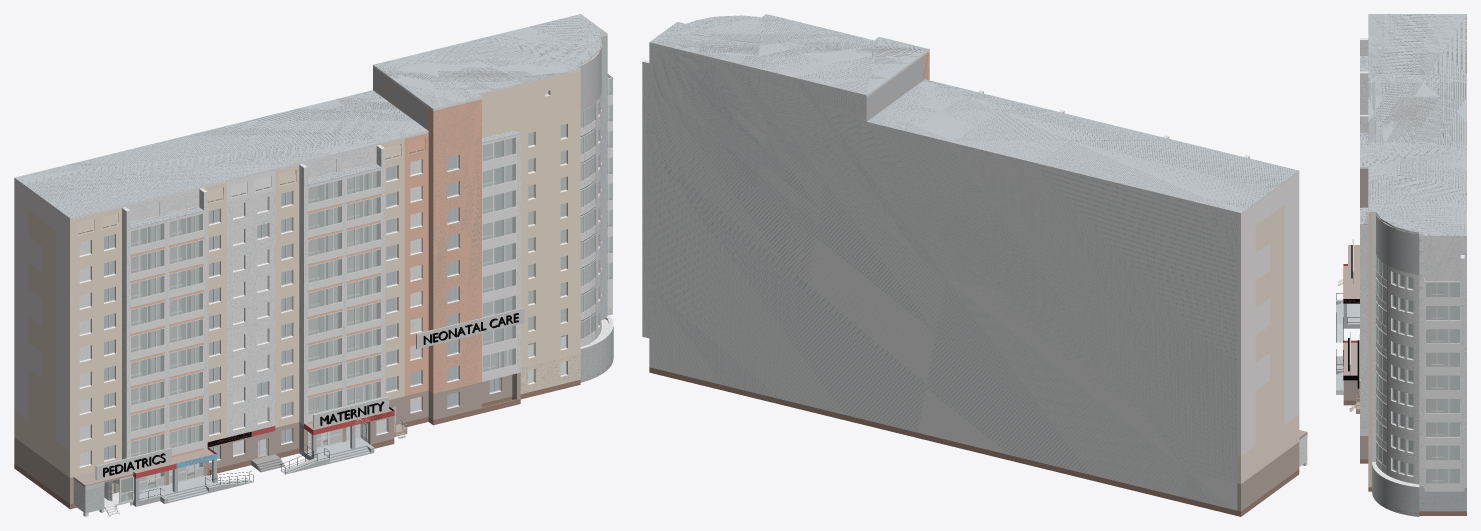
The model's file is Pedriatics-Maternity-Neonatal Care.fbx.
3 views of the same model, side by side, from view 1: azimuth 30°, elevation 25°; view 2: azimuth 150°, elevation 25°; view 3: azimuth 270°, elevation 25° (orthographic). The views are drawn at different scales.
Visible parts, largest first — view 1: Material3, Material2.005, Material2.001, Material2.006, Material2.002, Material2.003, Material2.007, Material3.007, Material3.001, Material3.009, Material3.002, Material3.011 (+6 smaller); view 2: Material2.001, Material3, Material3.009, Material3.001, Material2.005, Material3.011, Material3.007; view 3: Material3, Material2.001, Material3.001, Material2.006, Material2.003, Material3.007, Material2.005, Material3.002, Material2.002, Material3.011, Material2.012, Material2.009.
Boxes of the visible parts, <box> form: Material3: <box>15,14,613,515</box>; Material2.005: <box>14,37,607,512</box>; Material2.001: <box>14,33,613,516</box>; Material2.006: <box>104,75,611,502</box>; Material2.002: <box>130,50,601,457</box>; Material2.003: <box>79,74,612,466</box>; Material2.007: <box>104,160,516,457</box>; Material3.007: <box>14,100,613,505</box>; Material3.001: <box>22,14,605,234</box>; Material3.009: <box>14,180,73,450</box>; Material3.002: <box>80,141,501,488</box>; Material3.011: <box>14,335,580,508</box>; Material2.001: <box>642,42,1307,510</box>; Material3: <box>642,14,1307,509</box>; Material3.009: <box>1237,173,1299,456</box>; Material3.001: <box>653,14,1296,209</box>; Material2.005: <box>1237,205,1299,483</box>; Material3.011: <box>649,367,1299,516</box>; Material3.007: <box>922,53,1307,511</box>; Material3: <box>1336,14,1466,516</box>; Material2.001: <box>1336,38,1466,491</box>; Material3.001: <box>1360,14,1466,235</box>; Material2.006: <box>1376,256,1459,483</box>; Material2.003: <box>1424,278,1460,491</box>; Material3.007: <box>1337,169,1466,511</box>; Material2.005: <box>1368,213,1371,487</box>; Material3.002: <box>1444,283,1451,482</box>; Material2.002: <box>1376,216,1419,474</box>; Material3.011: <box>1343,400,1466,515</box>; Material2.012: <box>1336,293,1359,380</box>; Material2.009: <box>1336,302,1359,388</box>.
Size of the model in its own units: 8406 by 4434 by 1873.
Materials: 23 (4 with a texture image).
